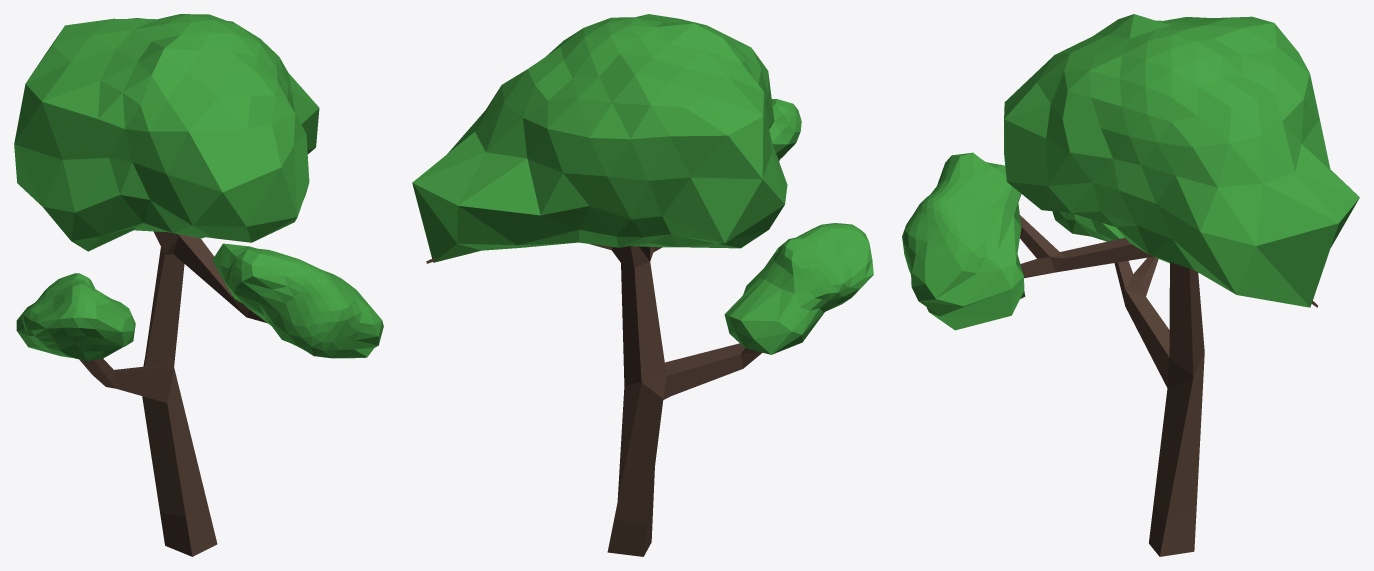
File: tree_01.fbx
3 views of the same model, side by side, from view 1: azimuth 30°, elevation 25°; view 2: azimuth 150°, elevation 25°; view 3: azimuth 270°, elevation 25° (orthographic). The views are drawn at different scales.
Visible parts, largest first — view 1: leafs, branch; view 2: leafs, branch; view 3: leafs, branch.
Part boxes in pixels (x1,y1,x2,y2): leafs: (14, 14, 383, 361); branch: (79, 231, 267, 556); leafs: (412, 14, 873, 354); branch: (426, 244, 762, 556); leafs: (902, 14, 1359, 330); branch: (1020, 215, 1317, 556).
Bounding box in the file's own units: 627 × 874 × 707.
